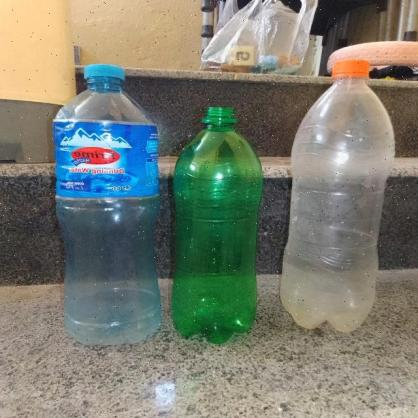bottle: (30, 58, 161, 350), (274, 52, 401, 336), (168, 93, 270, 343)
cap: (78, 63, 130, 83), (328, 57, 373, 80)
label: (48, 121, 159, 202)
